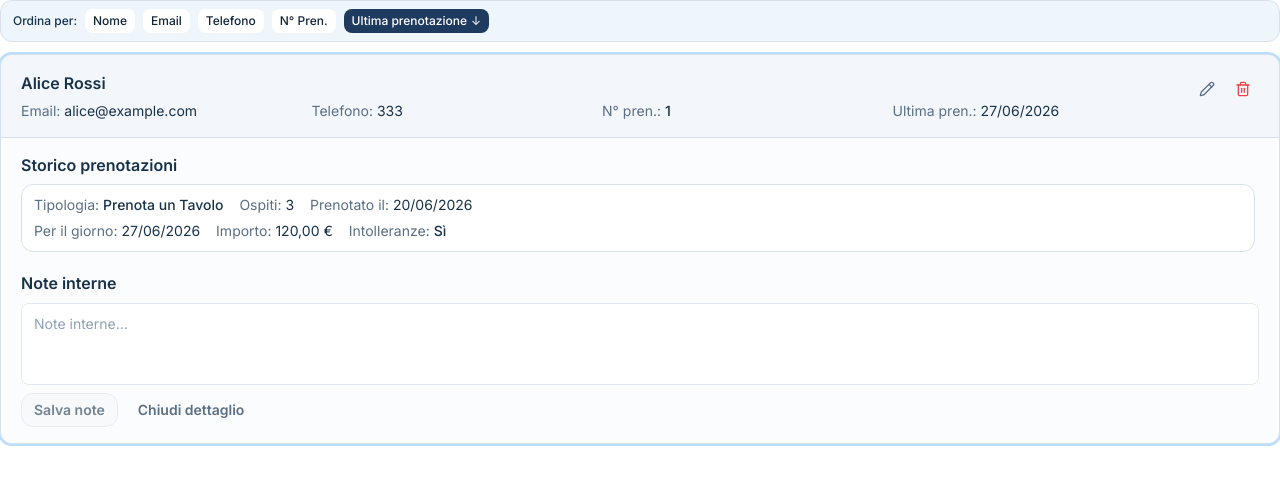
CustomerCardList — Rubrica card + storico inline › intolleranze: No se vuoto, Sì con messaggio consenso se compilato senza consenso
expect the text "Storico prenotazioni" is shown: met, box [21,155,177,175]
Click the button "Sì" at (440, 231), box [434,221,446,241]
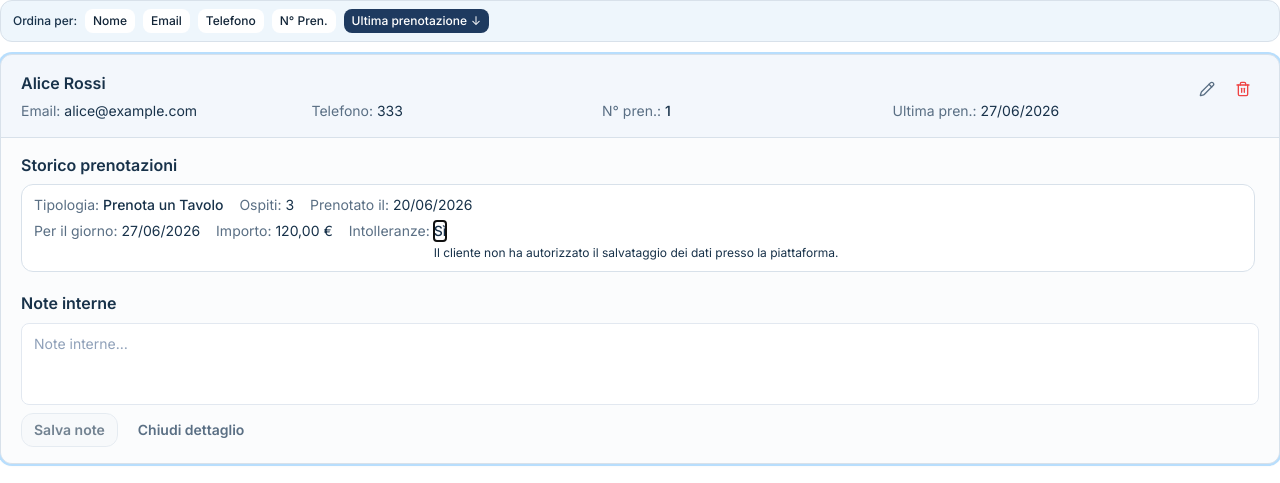
expect the text "Il cliente non ha autorizzato il salvataggio dei dati presso la piattaforma" is shown: met, box [434,245,839,260]
